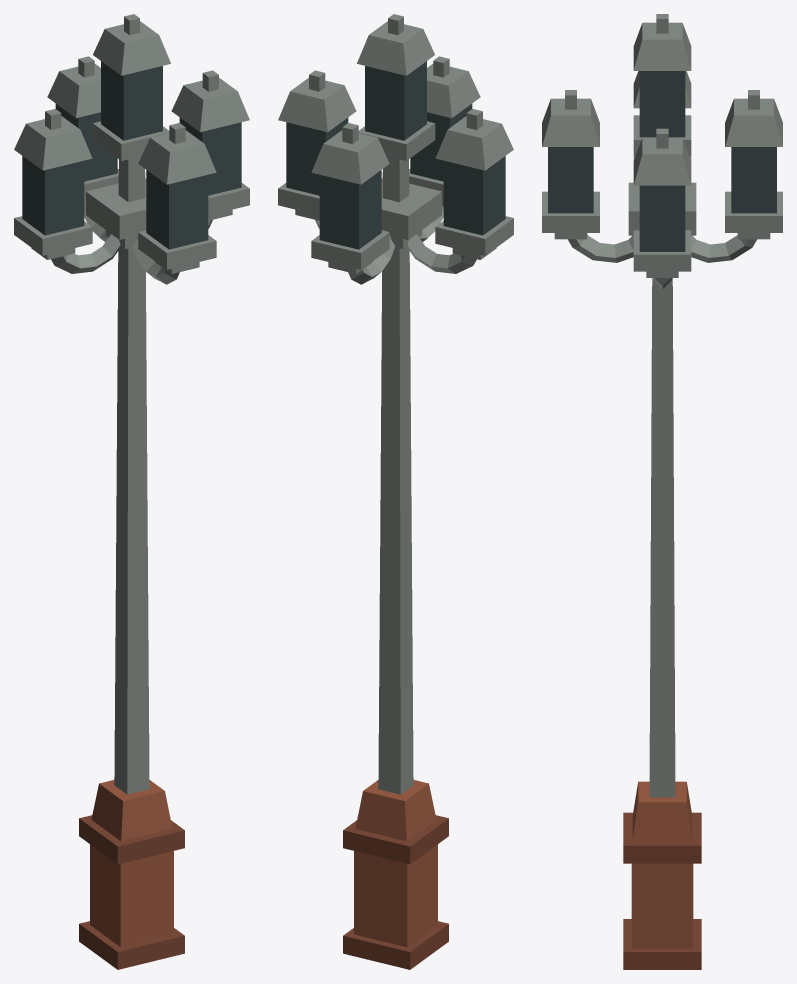
The model's file is Lamppost.glb.
The picture shows the model from 3 angles, left to right: view 1: azimuth 30°, elevation 25°; view 2: azimuth 150°, elevation 25°; view 3: azimuth 270°, elevation 25°; orthographic projection.
Parts seen in each view (by area): view 1: Cube_149; view 2: Cube_149; view 3: Cube_149.
Part boxes in pixels (x1,y1,x2,y2): Cube_149: [14, 14, 249, 969]; Cube_149: [278, 14, 513, 969]; Cube_149: [542, 14, 782, 969].
Size of the model in its own units: 1.35 by 5.81 by 1.35.
Materials: 1 (1 with a texture image).
